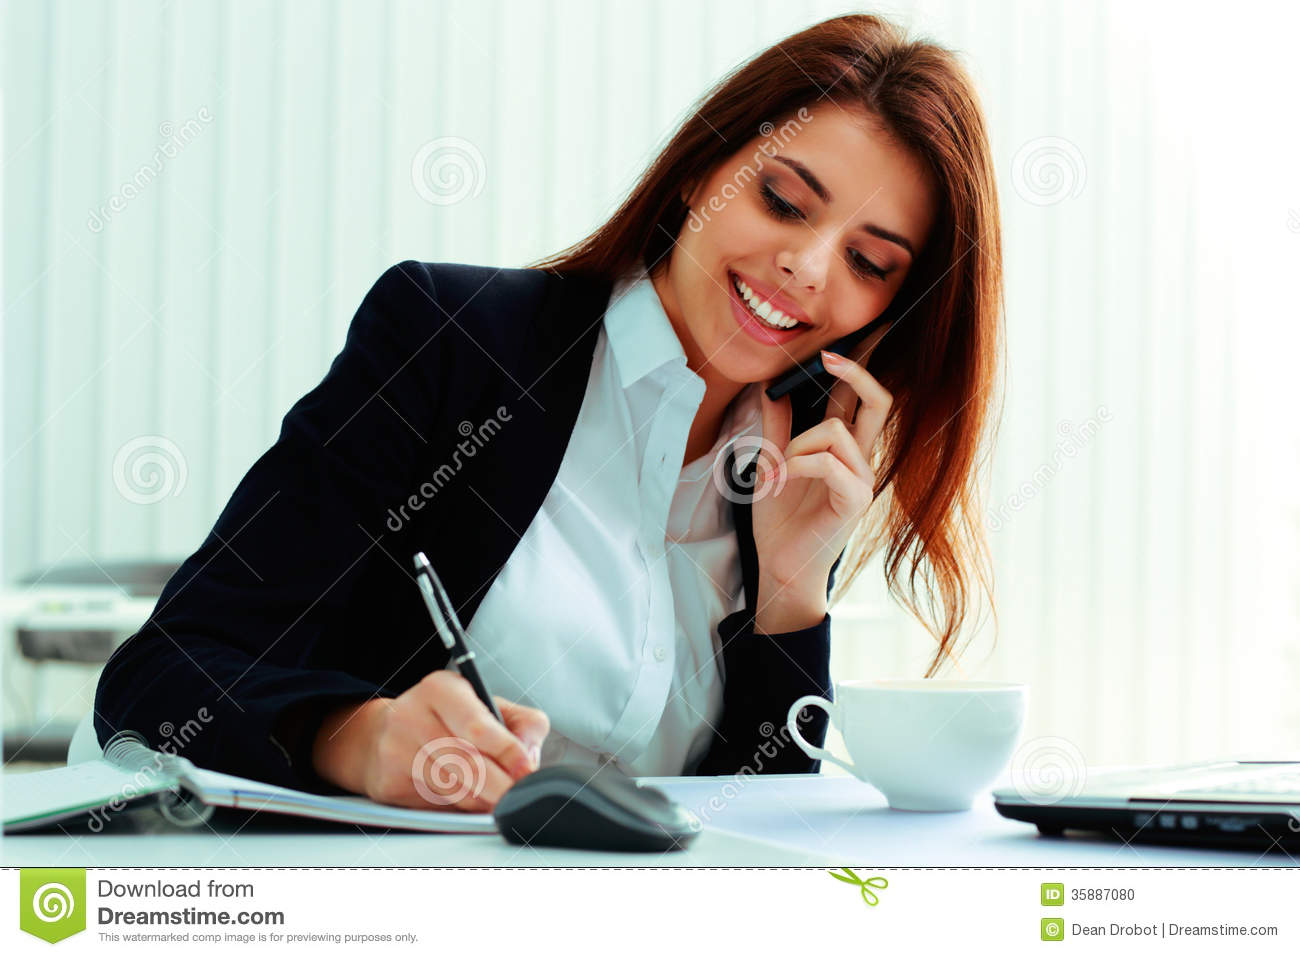phone: (768, 311, 888, 404)
talk: (696, 144, 919, 596)
